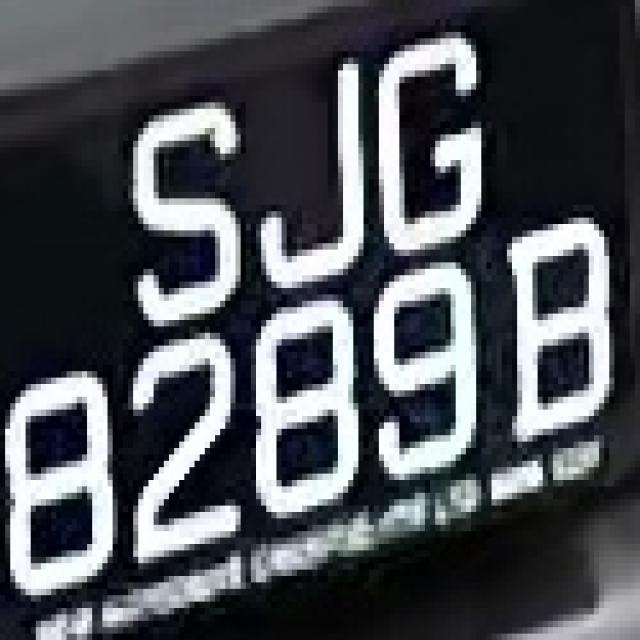2: (108, 314, 266, 588)
8: (246, 282, 374, 538), (10, 358, 123, 634)
9: (364, 256, 496, 499)
B: (492, 211, 614, 467)
G: (379, 32, 486, 275)
J: (230, 26, 368, 294)
S: (102, 70, 240, 320)
